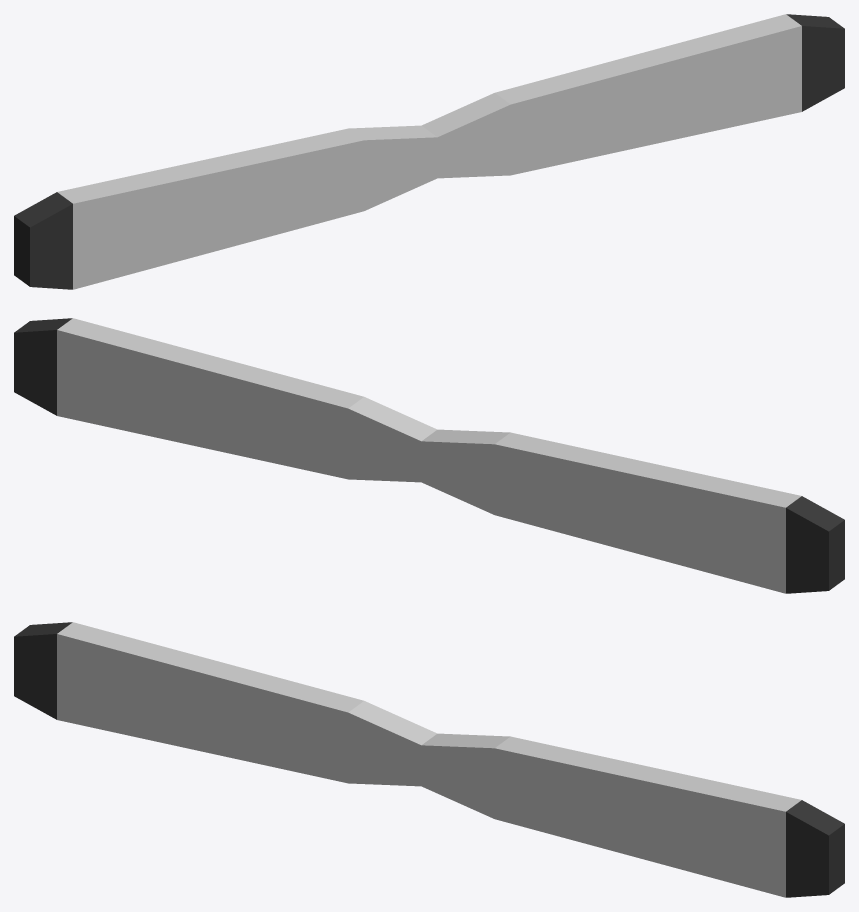
The picture shows the model from 3 angles, top to bottom: view 1: azimuth 30°, elevation 25°; view 2: azimuth 150°, elevation 25°; view 3: azimuth 330°, elevation 25°; orthographic projection.
Parts seen in each view (by area): view 1: Plane_01_2; view 2: Plane_01_2; view 3: Plane_01_2.
Boxes of the visible parts, left/top/right/bottom form: Plane_01_2: left=14, top=14, right=844, bottom=289; Plane_01_2: left=14, top=318, right=844, bottom=593; Plane_01_2: left=14, top=622, right=844, bottom=897.
Size of the model in its own units: 187 by 18.87 by 6.4.
